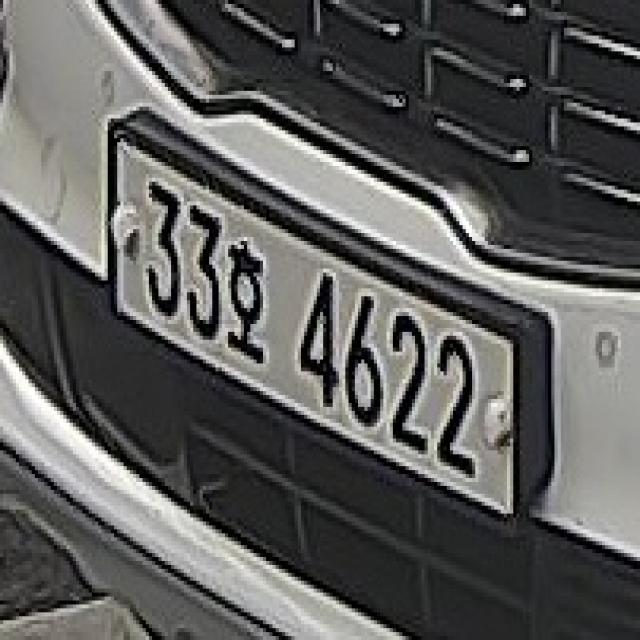2: (428, 332, 478, 474), (383, 312, 428, 450)
3: (139, 178, 184, 320), (187, 198, 225, 344)
4: (291, 269, 339, 411)
6: (342, 292, 383, 427)
ho: (219, 233, 269, 367)
license_plate: (111, 138, 516, 518)
